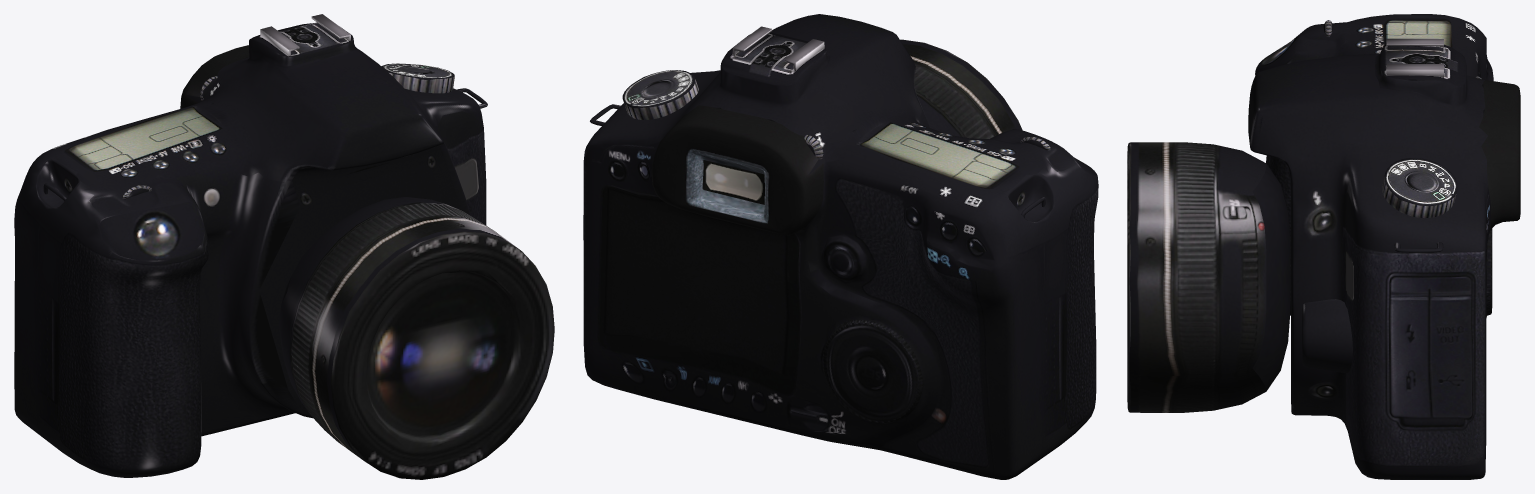
The model's file is camera.fbx.
3 renders of one model, left to right at view 1: azimuth 30°, elevation 25°; view 2: azimuth 150°, elevation 25°; view 3: azimuth 270°, elevation 25°, orthographic.
Visible parts, largest first — view 1: 10124_SLR_Camera_SG_V1_Iteration2; view 2: 10124_SLR_Camera_SG_V1_Iteration2; view 3: 10124_SLR_Camera_SG_V1_Iteration2.
Boxes of the visible parts, box(x1,y1,x2,y2) form: 10124_SLR_Camera_SG_V1_Iteration2: box(14, 14, 554, 479); 10124_SLR_Camera_SG_V1_Iteration2: box(583, 14, 1098, 479); 10124_SLR_Camera_SG_V1_Iteration2: box(1127, 14, 1520, 479).
Size of the model in its own units: 149 by 113 by 113.
